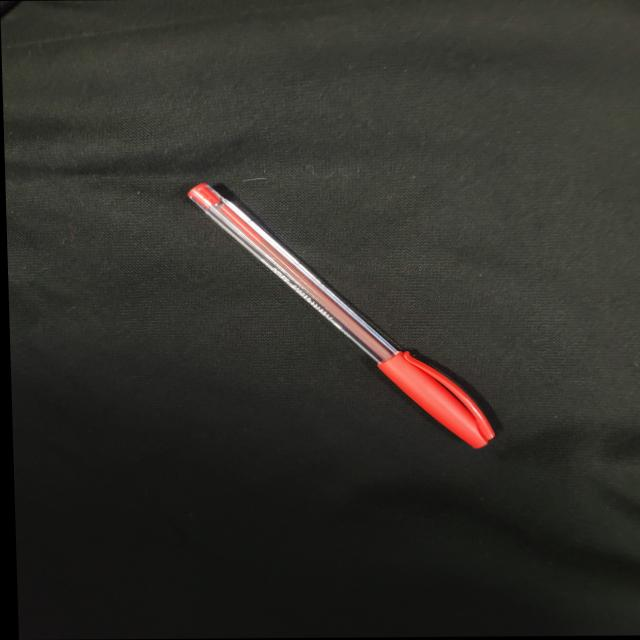caneta: (174, 176, 507, 455)
